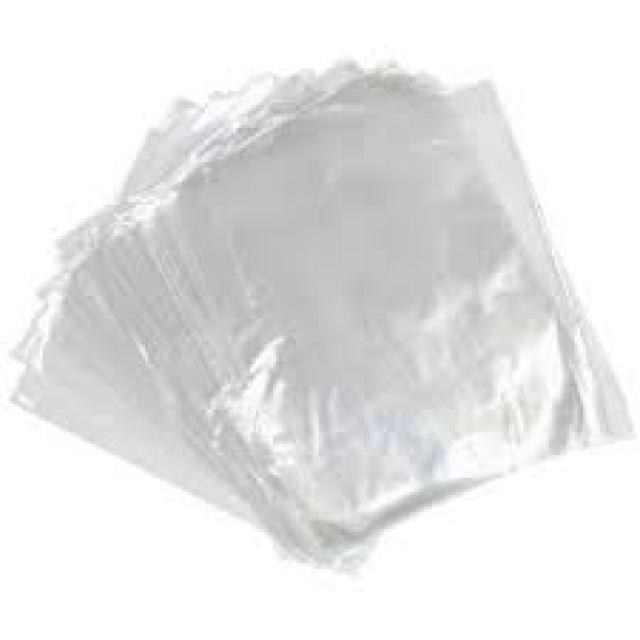plastic: (6, 91, 626, 560), (168, 65, 629, 532), (71, 57, 444, 560), (9, 94, 376, 569)
